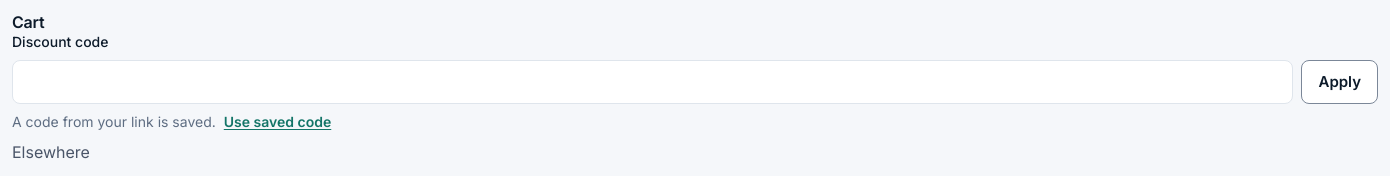
Test: PromoCodeField › the saved-code offer does not speak the code and does not steal focus after a slow apply
Expected: the button "Use saved code" does not show "LINK"
Click the button "Use saved code" at [278, 122], box [224, 112, 331, 132]
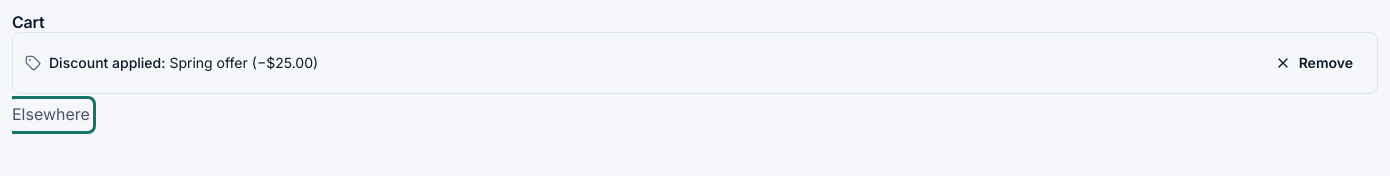
Result: the text "Discount applied: Spring offer(−$25.00)" is shown at [49, 53, 318, 73]
